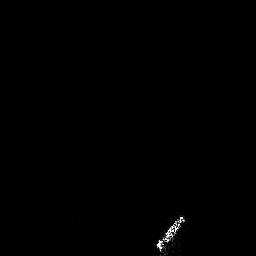ship: (151, 210, 190, 256)
